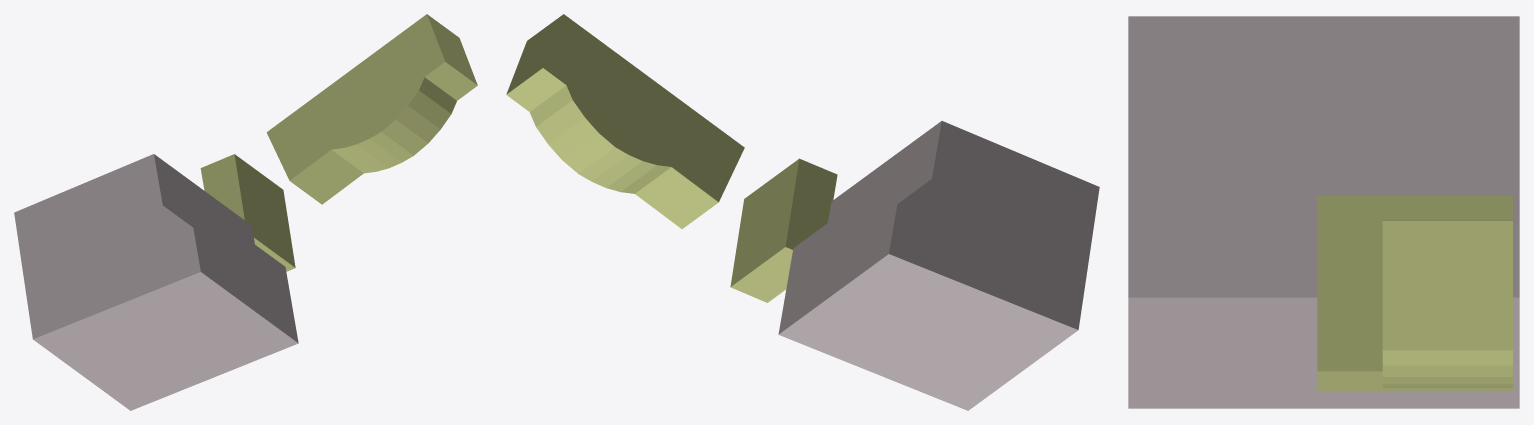
The picture shows the model from 3 angles, left to right: view 1: azimuth 30°, elevation 25°; view 2: azimuth 150°, elevation 25°; view 3: azimuth 270°, elevation 25°; orthographic projection. The views are drawn at different scales.
Parts seen in each view (by area): view 1: 0_3_0_2_1_1_1_2_0; view 2: 0_3_0_2_1_1_1_2_0; view 3: 0_3_0_2_1_1_1_2_0.
Part boxes in pixels (x1,y1,x2,y2): 0_3_0_2_1_1_1_2_0: [14, 14, 477, 410]; 0_3_0_2_1_1_1_2_0: [506, 14, 1099, 410]; 0_3_0_2_1_1_1_2_0: [1128, 16, 1519, 408].
Size of the model in its own units: 45.65 by 23.44 by 18.
